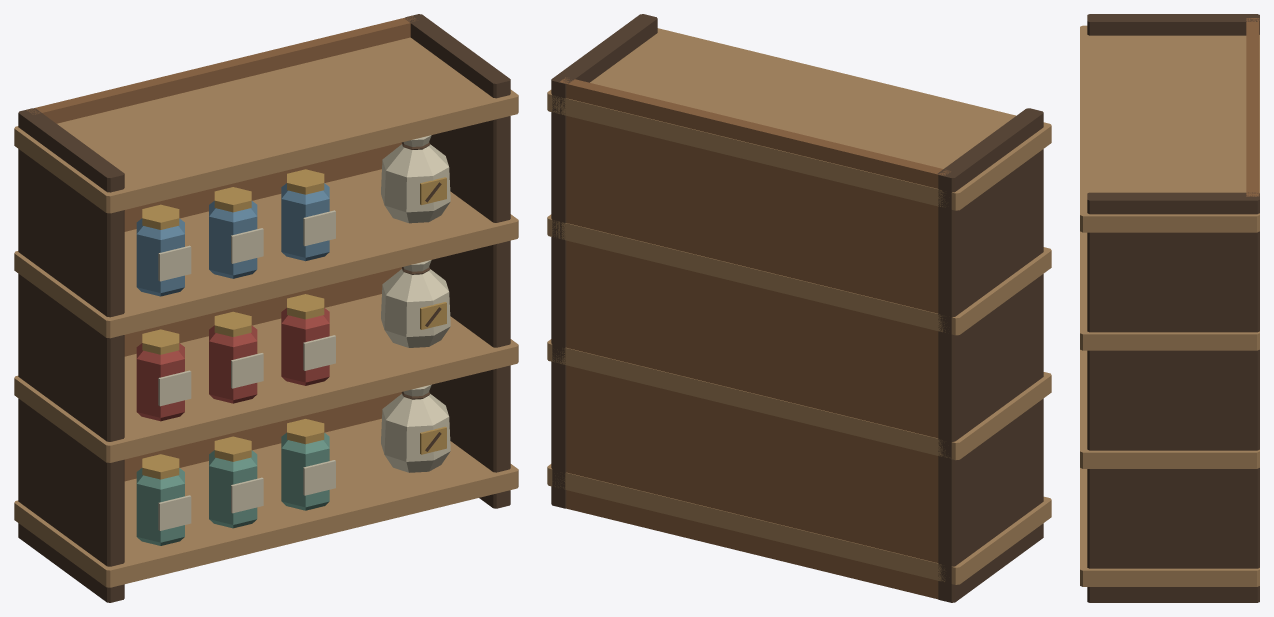
The model's file is shelf_goods.glb.
3 views of the same model, side by side, from view 1: azimuth 30°, elevation 25°; view 2: azimuth 150°, elevation 25°; view 3: azimuth 270°, elevation 25° (orthographic). The views are drawn at different scales.
Visible parts, largest first — view 1: geometry; view 2: geometry; view 3: geometry.
Boxes of the visible parts, x1,y1,x2,y2 form: geometry: (14,14,518,602); geometry: (547,14,1051,602); geometry: (1080,14,1259,602).
Bounding box in the file's own units: 1.88 × 1.85 × 0.75.
